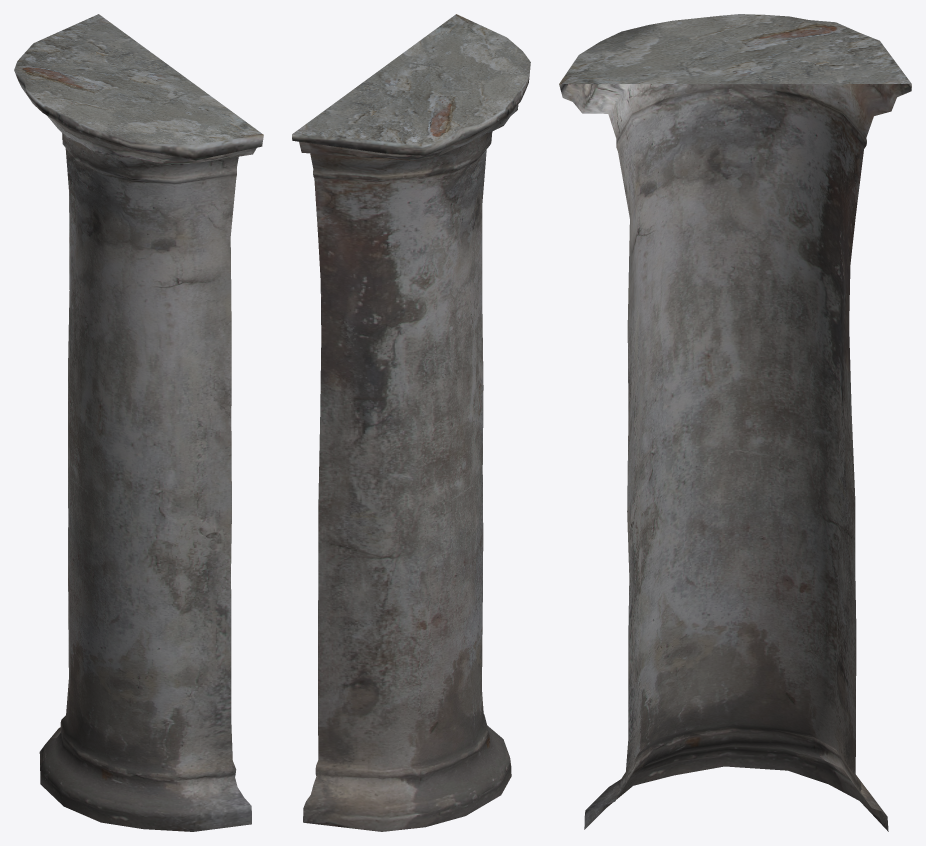
File: sm_CryptColumn_01_02.fbx
3 renders of one model, left to right at view 1: azimuth 30°, elevation 25°; view 2: azimuth 150°, elevation 25°; view 3: azimuth 270°, elevation 25°, orthographic. The views are drawn at different scales.
Visible parts, largest first — view 1: sm_CryptColumn_01_02_LOD0; view 2: sm_CryptColumn_01_02_LOD0; view 3: sm_CryptColumn_01_02_LOD0.
Boxes of the visible parts, x1=… form: sm_CryptColumn_01_02_LOD0: x1=14, y1=14, x2=263, y2=831; sm_CryptColumn_01_02_LOD0: x1=292, y1=14, x2=530, y2=831; sm_CryptColumn_01_02_LOD0: x1=559, y1=14, x2=911, y2=831.
Bounding box in the file's own units: 38.45 × 80.83 × 190.
